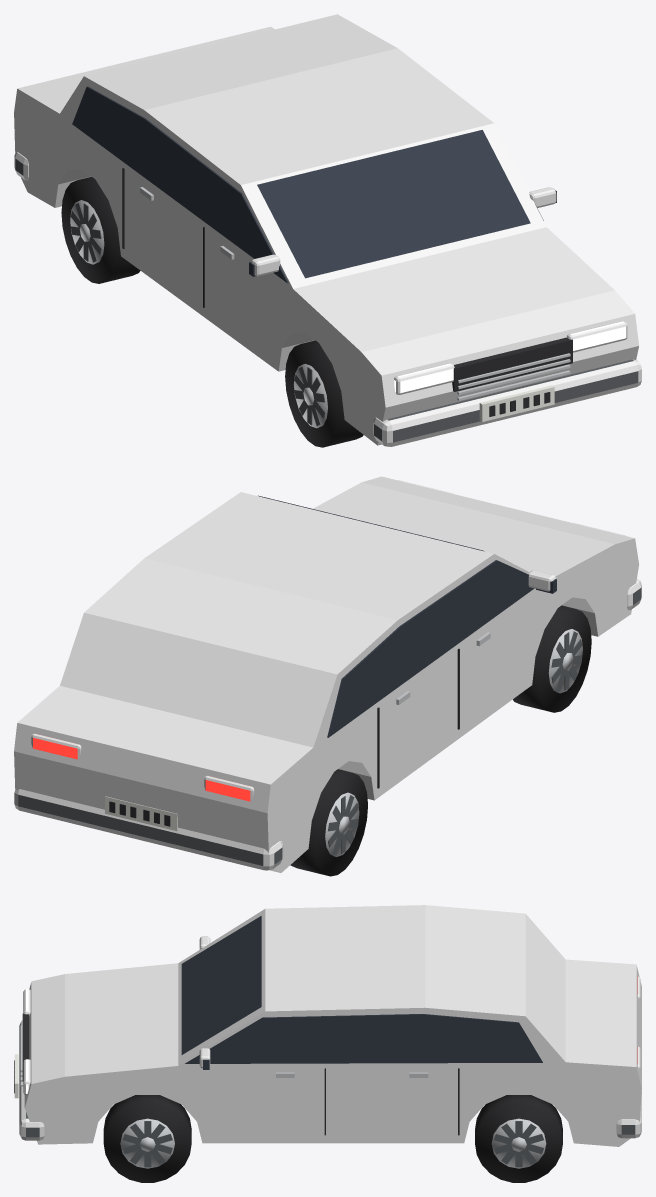
Rendered from car.gltf.
The picture shows the model from 3 angles, top to bottom: view 1: azimuth 30°, elevation 25°; view 2: azimuth 150°, elevation 25°; view 3: azimuth 270°, elevation 25°; orthographic projection. The views are drawn at different scales.
Visible parts, largest first — view 1: car, Wheel3, Wheel1; view 2: car, Wheel1, Wheel3; view 3: car, Wheel0, Wheel2.
Part boxes in pixels (box(x1,y1,x2,y2)): car: box(14, 14, 641, 446); Wheel3: box(61, 176, 140, 283); Wheel1: box(285, 340, 363, 447); car: box(14, 476, 641, 872); Wheel1: box(513, 605, 591, 712); Wheel3: box(290, 769, 367, 876); car: box(14, 905, 641, 1146); Wheel0: box(103, 1095, 191, 1182); Wheel2: box(475, 1095, 562, 1182).
Bounding box in the file's own units: 0.436 × 0.2893 × 0.9404.
Materials: 9 (1 with a texture image).
